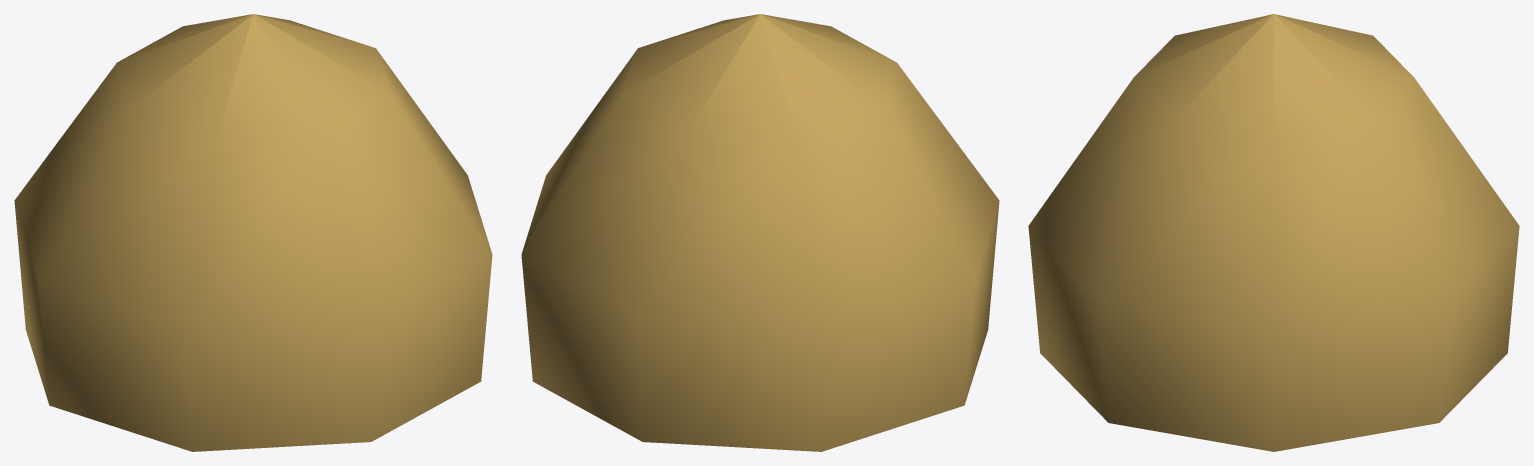
Rendered from haystack.fbx.
3 renders of one model, left to right at view 1: azimuth 30°, elevation 25°; view 2: azimuth 150°, elevation 25°; view 3: azimuth 270°, elevation 25°, orthographic.
Visible parts, largest first — view 1: haystack; view 2: haystack; view 3: haystack.
Part boxes in pixels (x1,y1,x2,y2): haystack: [14, 14, 492, 451]; haystack: [521, 14, 999, 451]; haystack: [1028, 14, 1519, 451].
Size of the model in its own units: 0.126 by 0.096 by 0.126.
